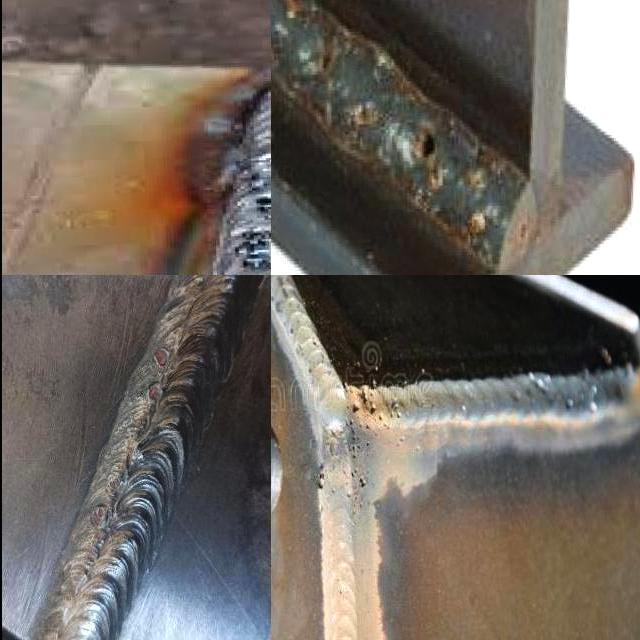defect: (344, 387, 411, 460), (225, 225, 269, 273), (414, 128, 440, 163), (314, 455, 327, 499), (148, 344, 170, 370), (347, 465, 368, 490), (248, 194, 269, 217), (143, 382, 163, 405), (88, 504, 106, 529), (106, 472, 122, 496), (122, 425, 137, 444)
